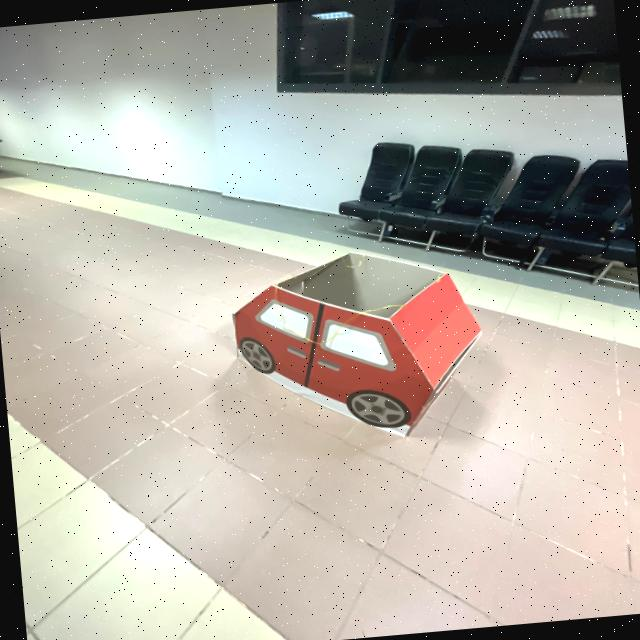red_car: (184, 235, 506, 465)
